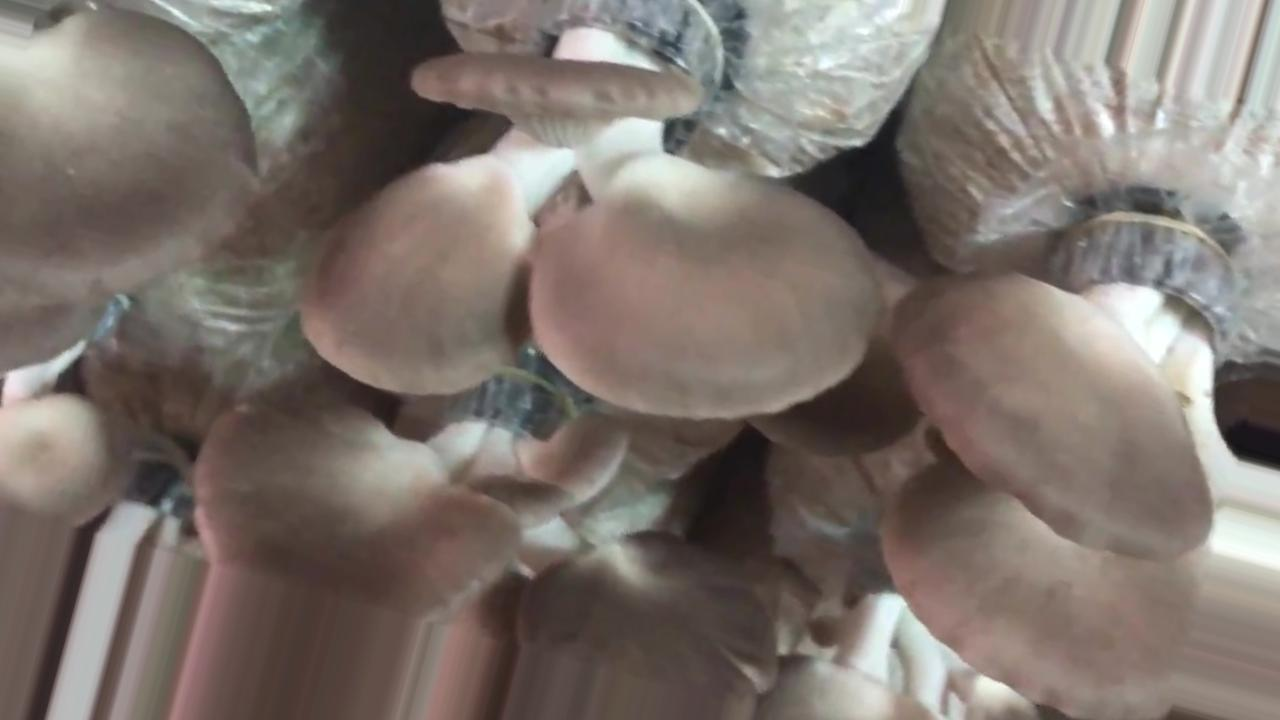nam: (301, 1, 877, 418), (172, 378, 778, 720), (878, 214, 1280, 714), (1, 13, 255, 373)
